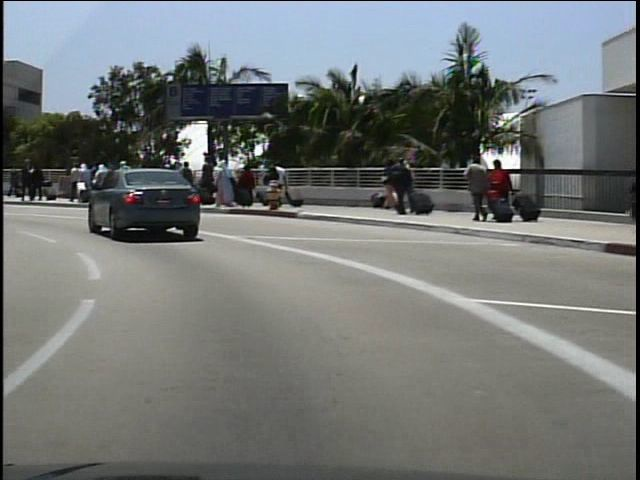person: (461, 153, 489, 224), (381, 156, 412, 217), (486, 157, 513, 222), (27, 160, 51, 208), (268, 158, 291, 207), (18, 157, 37, 202), (4, 164, 21, 203)
